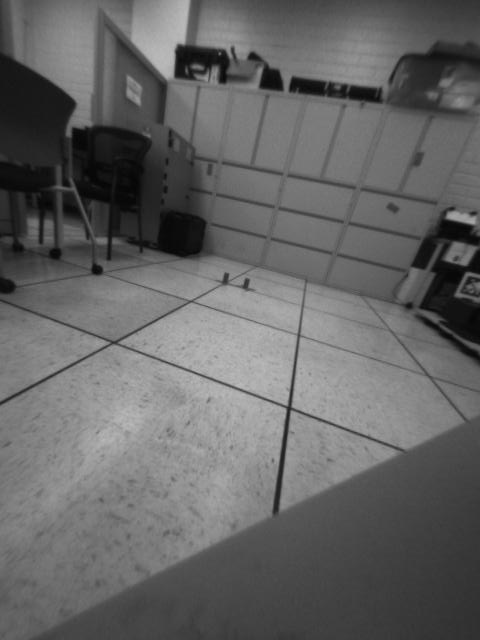X: (235, 275, 259, 296), (214, 270, 236, 291)
